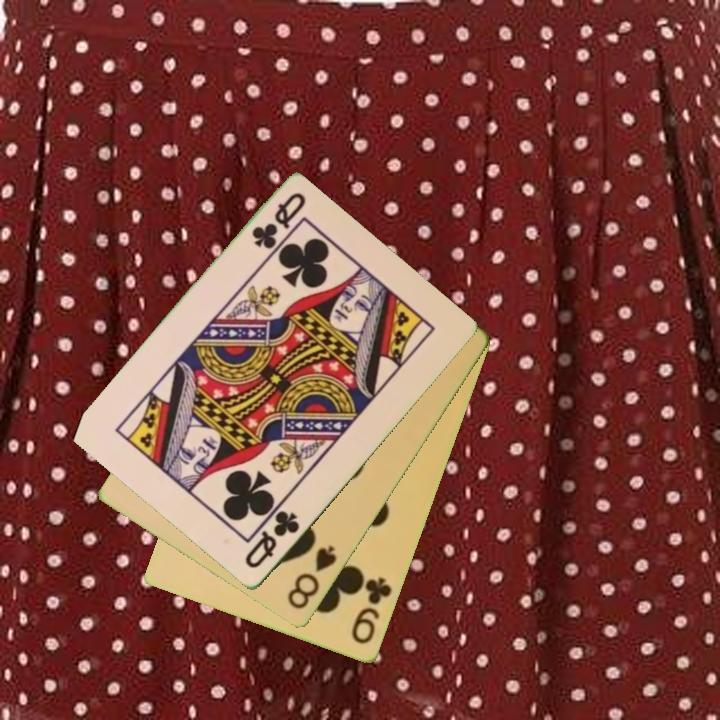8s: (284, 542, 340, 613)
9c: (348, 574, 395, 648)
Qc: (241, 507, 303, 572), (248, 189, 309, 253)
